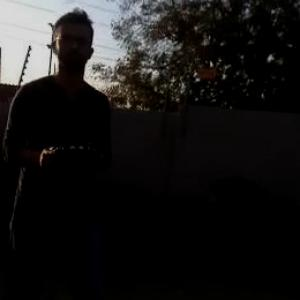follow: (0, 1, 120, 299)
